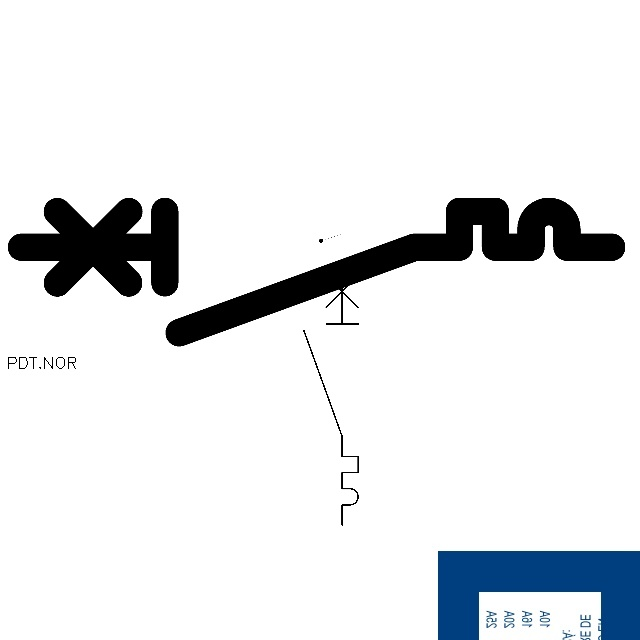interruptor_termomagnetico: (6, 196, 627, 348), (297, 252, 365, 531)
